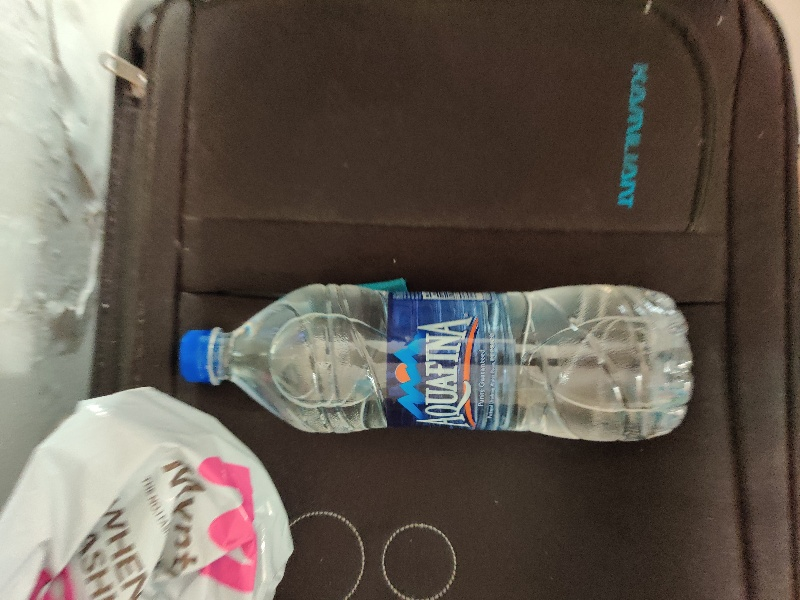bottle: (169, 267, 692, 449)
